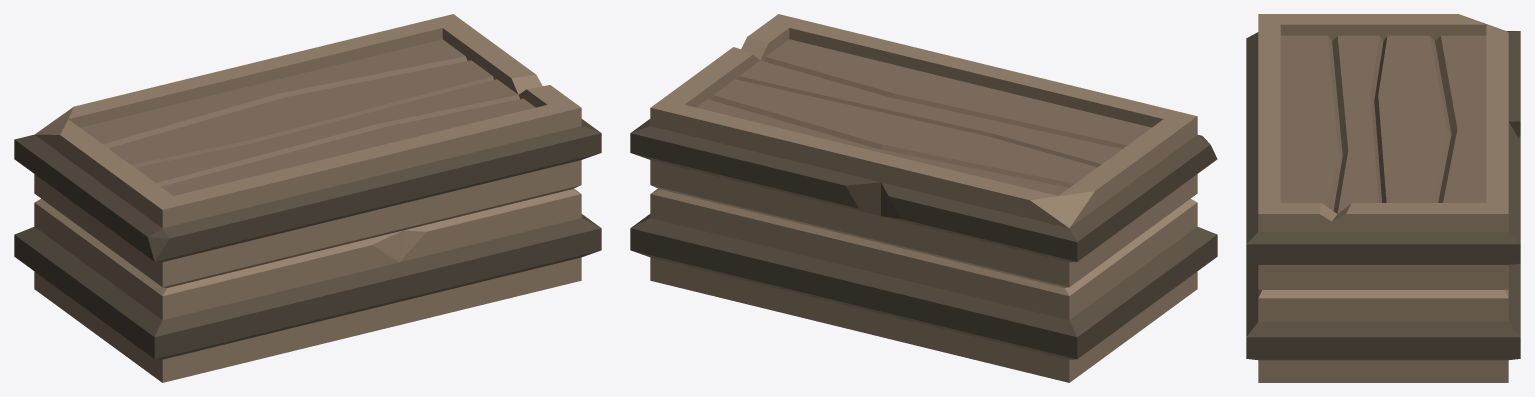
The model's file is SM_Prop_Crate_03.fbx.
3 renders of one model, left to right at view 1: azimuth 30°, elevation 25°; view 2: azimuth 150°, elevation 25°; view 3: azimuth 270°, elevation 25°, orthographic. The views are drawn at different scales.
Parts seen in each view (by area): view 1: SM_Prop_Crate_03; view 2: SM_Prop_Crate_03; view 3: SM_Prop_Crate_03.
Boxes of the visible parts, x1=… form: SM_Prop_Crate_03: x1=14, y1=14, x2=601, y2=382; SM_Prop_Crate_03: x1=630, y1=14, x2=1217, y2=382; SM_Prop_Crate_03: x1=1246, y1=14, x2=1520, y2=382.
Bounding box in the file's own units: 0.9544 × 0.3531 × 0.5189.
